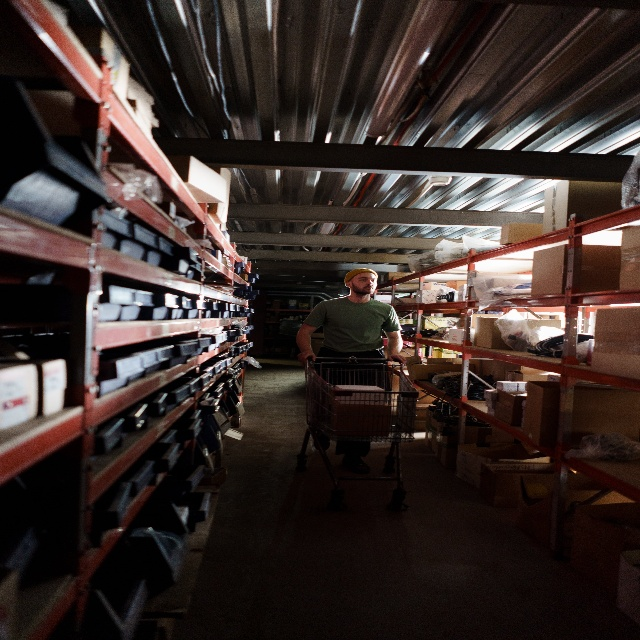Sin_guantes: (297, 350, 316, 368), (387, 353, 406, 365)
